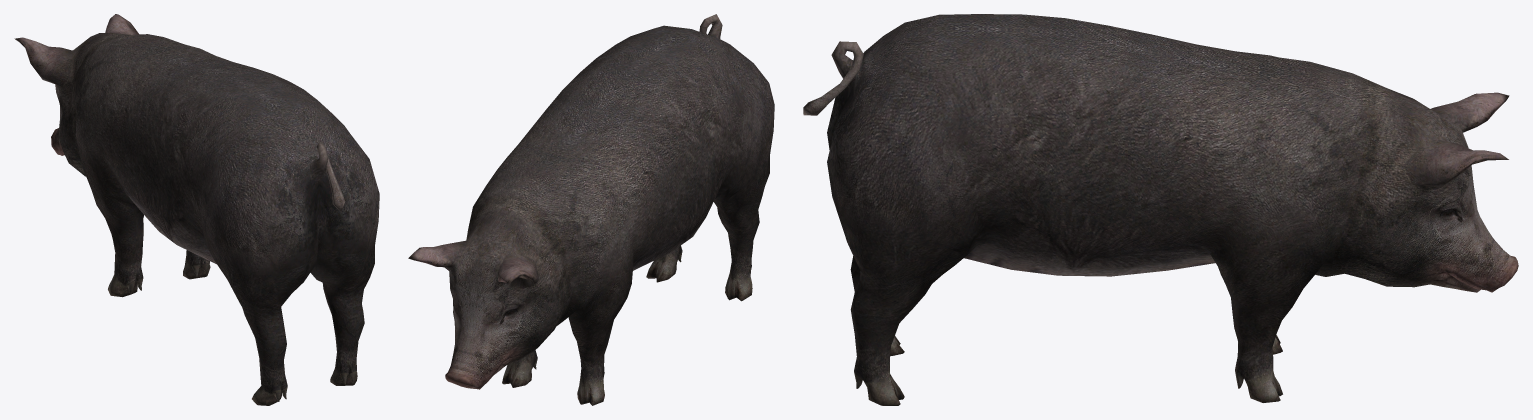
Rendered from Pig_type_01_A_FBX.FBX.
3 renders of one model, left to right at view 1: azimuth 30°, elevation 25°; view 2: azimuth 150°, elevation 25°; view 3: azimuth 270°, elevation 25°, orthographic. The views are drawn at different scales.
Parts seen in each view (by area): view 1: Pig_type_01_A; view 2: Pig_type_01_A; view 3: Pig_type_01_A.
Boxes of the visible parts, bbox=[...] form: Pig_type_01_A: bbox=[14, 14, 379, 405]; Pig_type_01_A: bbox=[408, 14, 774, 405]; Pig_type_01_A: bbox=[803, 14, 1518, 405].
Bounding box in the file's own units: 44.68 × 74.77 × 139.
